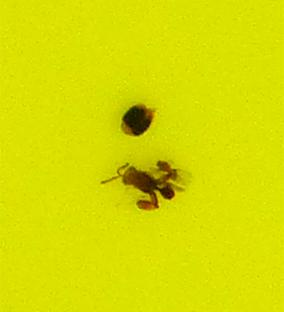Coleoptera: (118, 100, 157, 139)
Hymenoptera: (100, 157, 184, 212)
